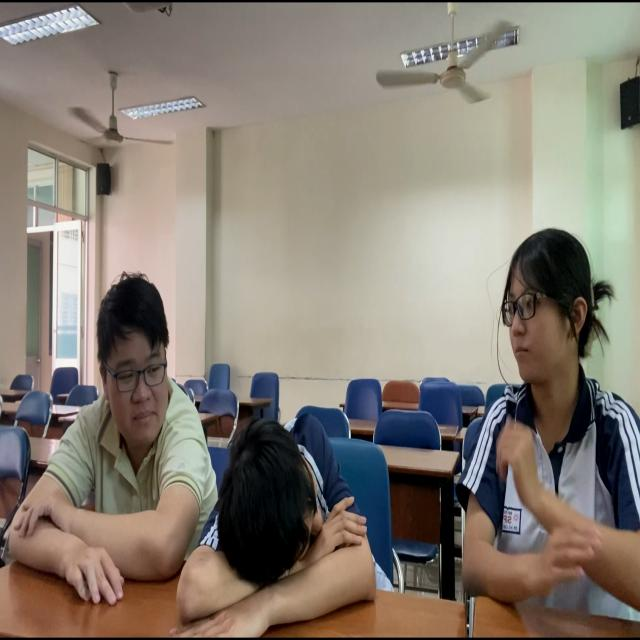sleep: (177, 371, 423, 640)
